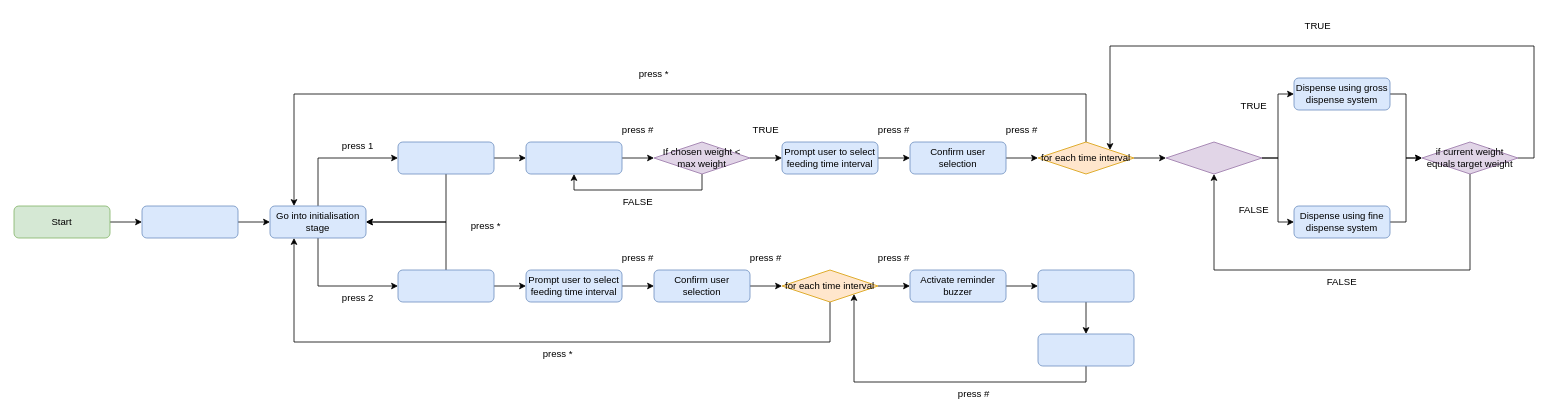
This 1554x419 diagram has some shape labels left out. The centre of each missing label's shape, as x and y in pixels:
Go to automatic feeder mode: the point at 445,157
Go to manual feeder mode: the point at 445,285
if weight < 0.7 * target weight: the point at 1213,157
Initialise global variables and sensors/actuators: the point at 189,221
Live weight reading of user placing food in bowl: the point at 1085,349
Prompt user to feed their pet: the point at 1085,285
Prompt user to select food weight: the point at 573,157
